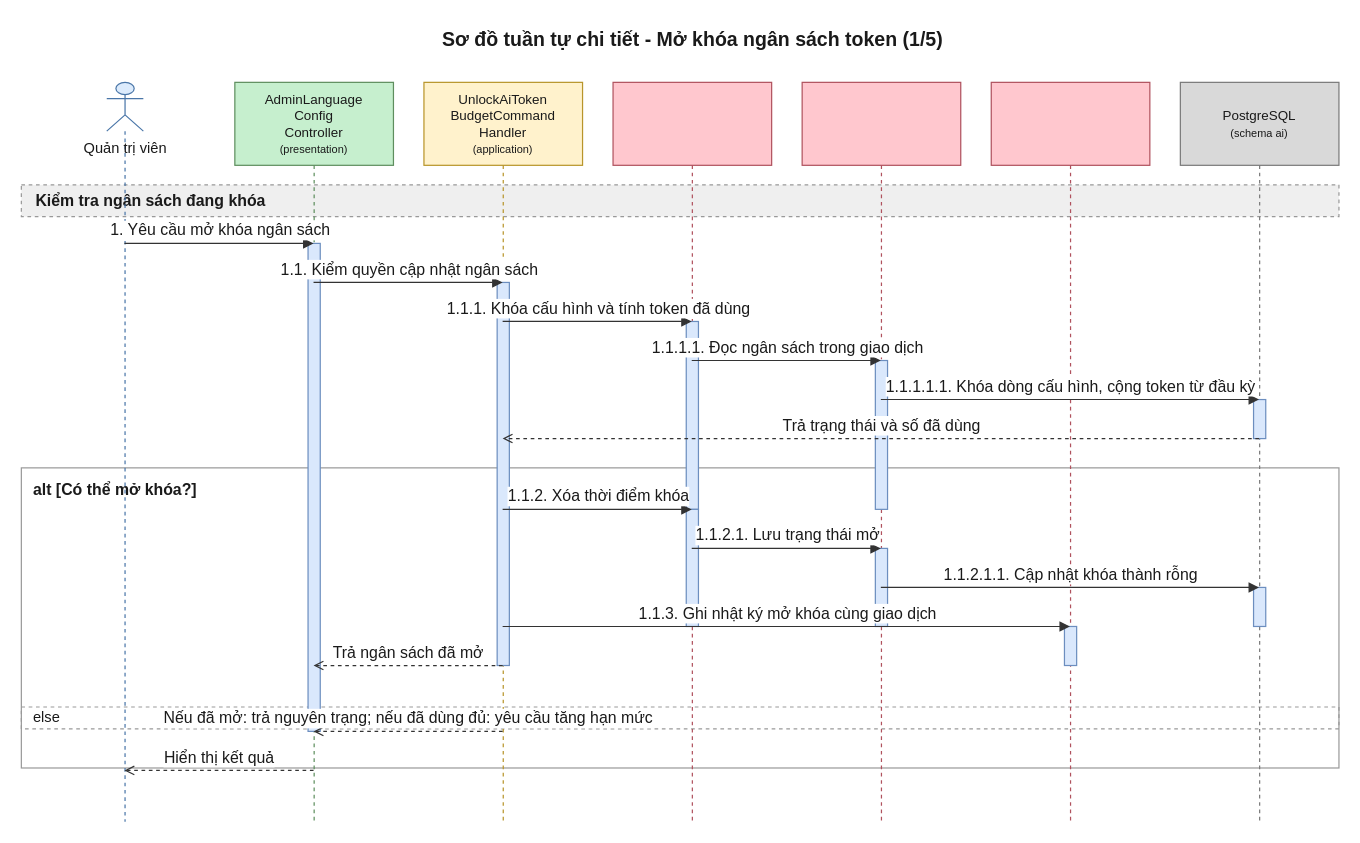
Image size: 1360x843. Some labels were removed from this diagram. The shapes that lost their labels are listed below. From the top down, each one's box as (x1, y1, x2, y2) in pixels, then its label:
(612, 81, 772, 822): AiBudget Repository (persistence adapter)
(801, 81, 961, 822): JdbcAiToken Budget Repository (persistence adapter)
(990, 81, 1150, 822): AuditLogPort (identity port)
